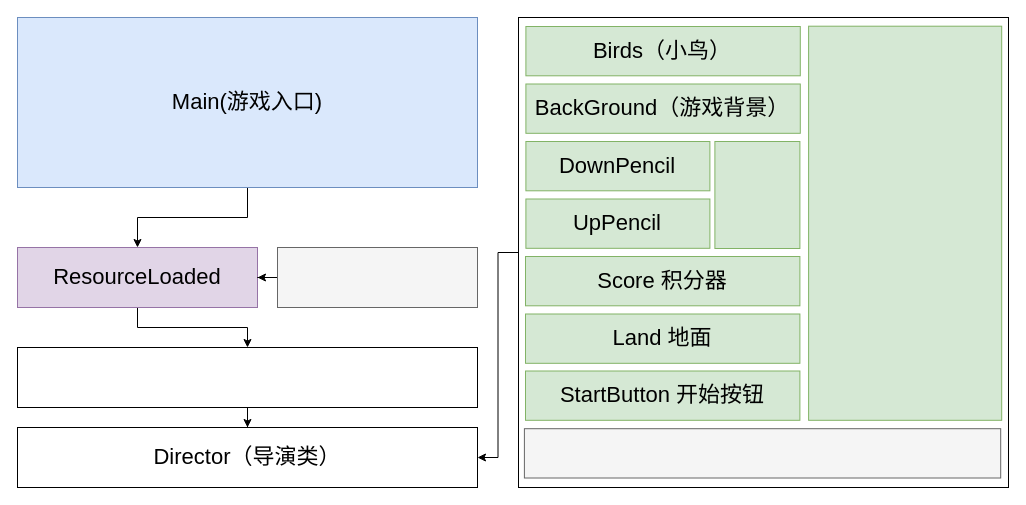
Some shapes in this 1026 by 505 pixel diagram are drawn without their labels. Each missing label, with the centre of its shape:
"DataStore（内存管理）" goes at (762,453).
"Main.init() 创建对象实例" goes at (247,377).
"Pencil" goes at (757,194).
"Resources" goes at (377,277).
"Sprite （雪碧图基类）" goes at (905,222).
